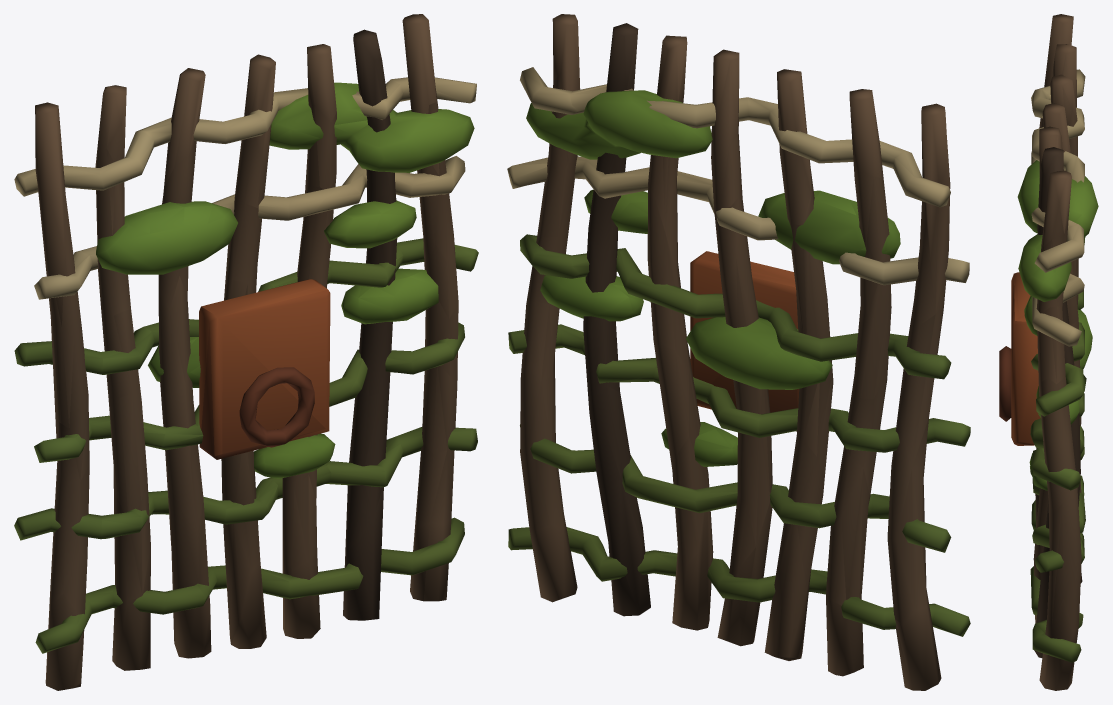
Rendered from mire_seal_gate_lod1.glb.
3 renders of one model, left to right at view 1: azimuth 30°, elevation 25°; view 2: azimuth 150°, elevation 25°; view 3: azimuth 270°, elevation 25°, orthographic. The views are drawn at different scales.
Visible parts, largest first — view 1: mire_seal_gate.001; view 2: mire_seal_gate.001; view 3: mire_seal_gate.001.
Part boxes in pixels (<box>): mire_seal_gate.001: <box>14,14,478,690</box>; mire_seal_gate.001: <box>507,14,970,690</box>; mire_seal_gate.001: <box>999,14,1098,690</box>.
Bounding box in the file's own units: 8.15 × 10.25 × 1.81.
